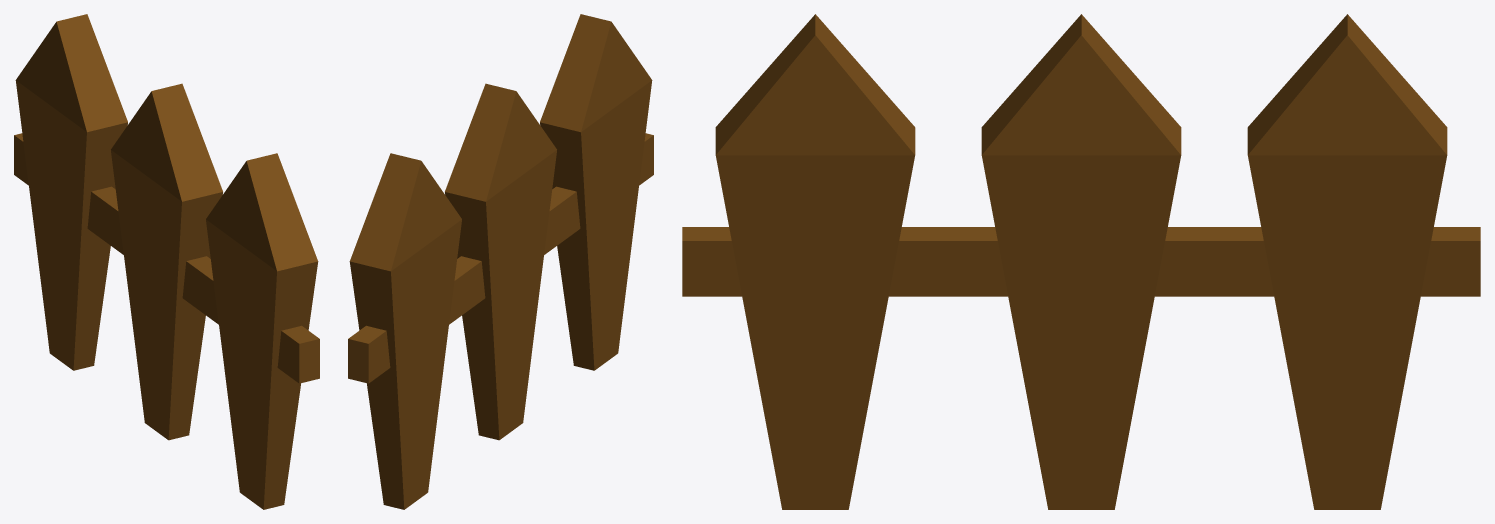
File: Fence.fbx
The picture shows the model from 3 angles, left to right: view 1: azimuth 30°, elevation 25°; view 2: azimuth 150°, elevation 25°; view 3: azimuth 270°, elevation 25°; orthographic projection. The views are drawn at different scales.
Visible parts, largest first — view 1: Cube.002, Cube, Cube.001, Cube.003; view 2: Cube.001, Cube, Cube.002, Cube.003; view 3: Cube, Cube.001, Cube.002, Cube.003.
Part boxes in pixels (left/top/right/bottom): Cube.002: left=206, top=153, right=318, bottom=509; Cube: left=111, top=83, right=222, bottom=440; Cube.001: left=15, top=14, right=127, bottom=370; Cube.003: left=14, top=133, right=319, bottom=383; Cube.001: left=349, top=153, right=461, bottom=509; Cube: left=445, top=83, right=556, bottom=440; Cube.002: left=540, top=14, right=652, bottom=370; Cube.003: left=348, top=133, right=653, bottom=383; Cube: left=981, top=14, right=1181, bottom=509; Cube.001: left=1247, top=14, right=1447, bottom=509; Cube.002: left=715, top=14, right=915, bottom=509; Cube.003: left=682, top=227, right=1480, bottom=296.
Size of the model in its own units: 50 by 397 by 600.
